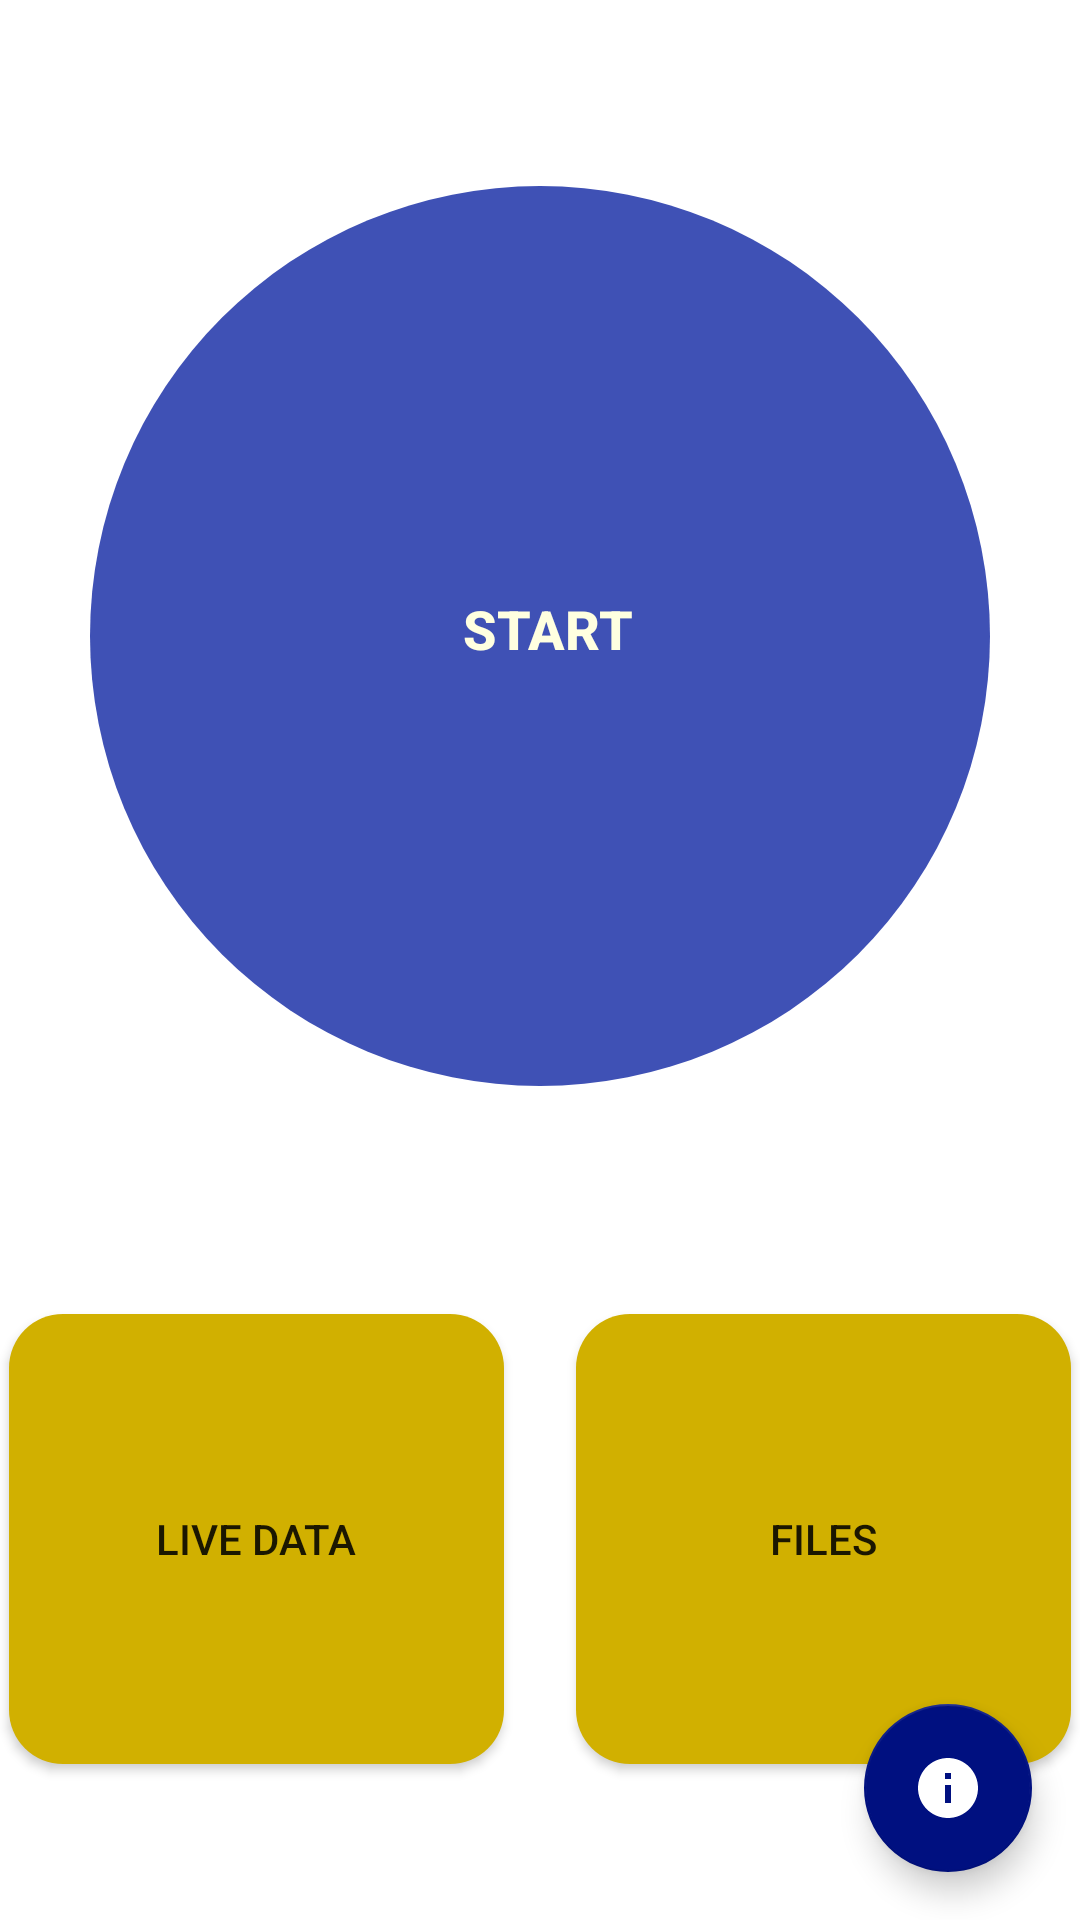

Where to tap for icons on this 1080*1920 app screen, as (x=x, y=y):
See sensor hardware information: (x=948, y=1788)
